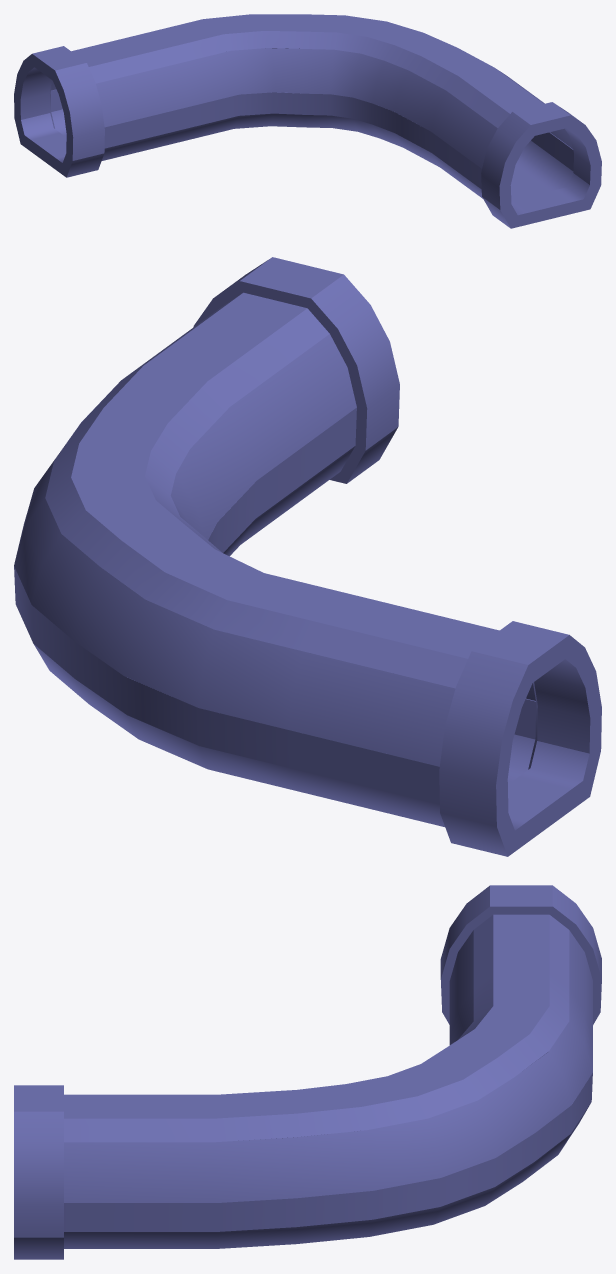
File: tunnel_povorot.fbx
The picture shows the model from 3 angles, top to bottom: view 1: azimuth 30°, elevation 25°; view 2: azimuth 150°, elevation 25°; view 3: azimuth 270°, elevation 25°; orthographic projection. The views are drawn at different scales.
Visible parts, largest first — view 1: tunnel_povorot.001, tunnel_povorot, tunnel_povorot.002, tunnel_povorot.003; view 2: tunnel_povorot.001, tunnel_povorot, tunnel_povorot.002, tunnel_povorot.003; view 3: tunnel_povorot.001, tunnel_povorot, tunnel_povorot.003, tunnel_povorot.002.
Boxes of the visible parts, box(x1,y1,x2,y2) form: tunnel_povorot.001: box(50, 14, 573, 200); tunnel_povorot: box(51, 48, 572, 168); tunnel_povorot.002: box(14, 46, 104, 177); tunnel_povorot.003: box(481, 102, 601, 228); tunnel_povorot.001: box(14, 292, 536, 826); tunnel_povorot: box(14, 334, 535, 766); tunnel_povorot.002: box(439, 621, 601, 856); tunnel_povorot.003: box(193, 257, 399, 483); tunnel_povorot.001: box(64, 914, 592, 1248); tunnel_povorot: box(64, 930, 592, 1202); tunnel_povorot.003: box(14, 1085, 63, 1259); tunnel_povorot.002: box(440, 885, 601, 1024).
Bounding box in the file's own units: 407 × 409 × 103.
